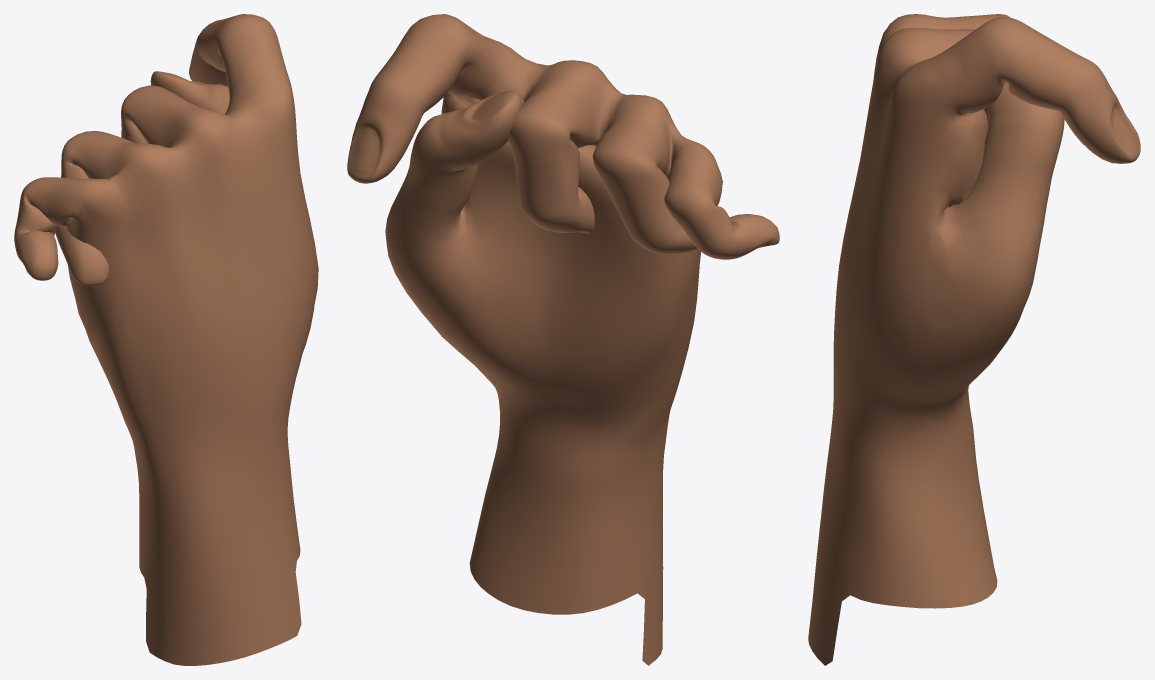
File: hand_grip.glb
3 views of the same model, side by side, from view 1: azimuth 30°, elevation 25°; view 2: azimuth 150°, elevation 25°; view 3: azimuth 270°, elevation 25° (orthographic). The views are drawn at different scales.
Size of the model in its own units: 0.1234 by 0.2184 by 0.0978.
